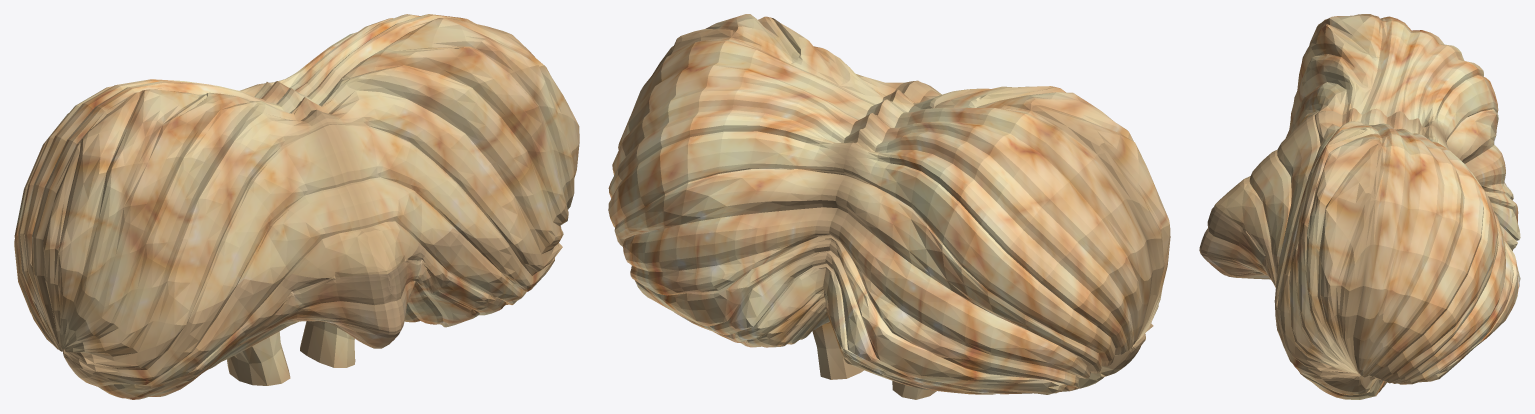
Rendered from cerebellum.obj.
The picture shows the model from 3 angles, left to right: view 1: azimuth 30°, elevation 25°; view 2: azimuth 150°, elevation 25°; view 3: azimuth 270°, elevation 25°; orthographic projection. The views are drawn at different scales.
Bounding box in the file's own units: 4.21 × 2.4 × 2.62.
1 material, 1 textured.
